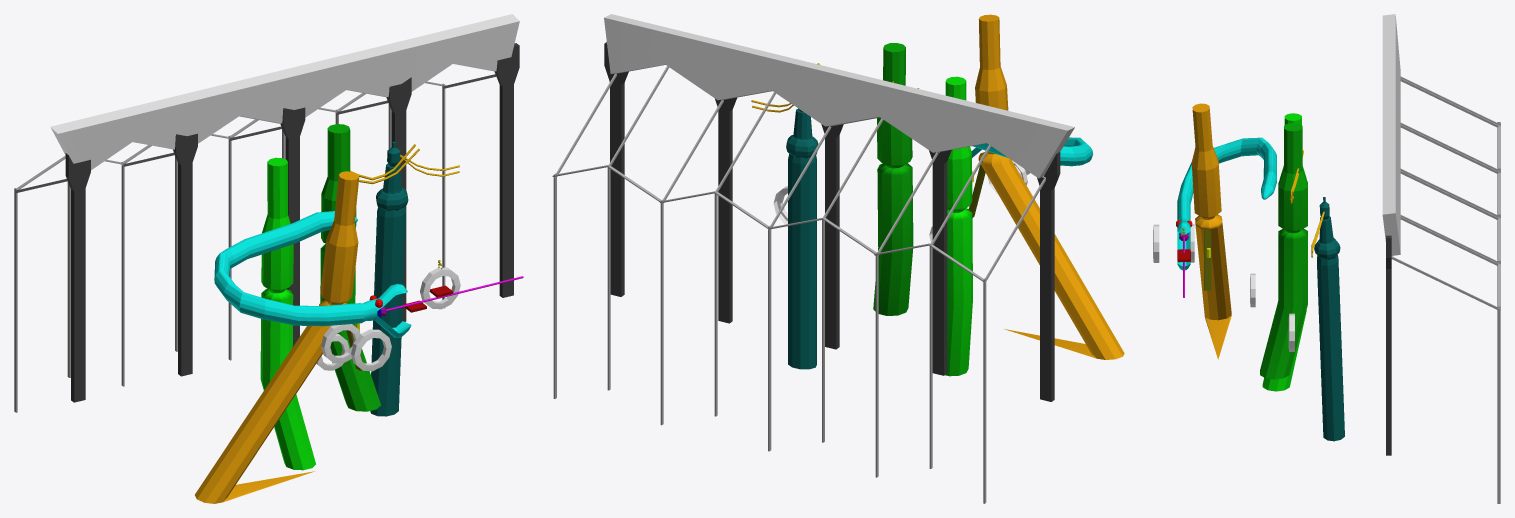
Rendered from WhiteBoxRayman2.fbx.
3 renders of one model, left to right at view 1: azimuth 30°, elevation 25°; view 2: azimuth 150°, elevation 25°; view 3: azimuth 270°, elevation 25°, orthographic. The views are drawn at different scales.
Parts seen in each view (by area): view 1: polySurface71, pCylinder10, pCube1, pCylinder15, pCube42, polySurface62, pCylinder4, polySurface70, polySurface68, polySurface69, polySurface66, polySurface67 (+3 smaller); view 2: polySurface71, polySurface62, pCylinder10, pCylinder4, pCube42, pCylinder15, polySurface70, polySurface69, polySurface68, polySurface67, polySurface66, pCube1; view 3: pCylinder4, pCylinder10, pCube42, polySurface71, pCube1, polySurface62, polySurface68, pCylinder15, pCube45.
Part boxes in pixels (left/top/right/bottom): polySurface71: left=50, top=14, right=519, bottom=170; pCylinder10: left=195, top=171, right=359, bottom=503; pCube1: left=214, top=211, right=411, bottom=337; pCylinder15: left=260, top=157, right=315, bottom=470; pCube42: left=370, top=141, right=408, bottom=416; polySurface62: left=14, top=81, right=445, bottom=412; pCylinder4: left=320, top=124, right=380, bottom=411; polySurface70: left=65, top=153, right=90, bottom=402; polySurface68: left=494, top=43, right=519, bottom=297; polySurface69: left=173, top=133, right=197, bottom=376; polySurface66: left=280, top=107, right=305, bottom=346; polySurface67: left=386, top=77, right=411, bottom=321; polySurface71: left=604, top=14, right=1074, bottom=178; polySurface62: left=552, top=165, right=986, bottom=503; pCylinder10: left=975, top=14, right=1124, bottom=359; pCylinder4: left=873, top=43, right=913, bottom=315; pCube42: left=786, top=108, right=818, bottom=369; pCylinder15: left=945, top=76, right=972, bottom=376; polySurface70: left=1037, top=152, right=1060, bottom=401; polySurface69: left=929, top=150, right=951, bottom=375; polySurface68: left=604, top=42, right=628, bottom=296; polySurface67: left=715, top=97, right=736, bottom=323; polySurface66: left=821, top=124, right=843, bottom=349; pCube1: left=971, top=137, right=1093, bottom=166; pCylinder4: left=1260, top=123, right=1307, bottom=379; pCylinder10: left=1191, top=103, right=1231, bottom=359; pCube42: left=1314, top=197, right=1344, bottom=441; polySurface71: left=1382, top=14, right=1400, bottom=255; pCube1: left=1177, top=137, right=1276, bottom=270; polySurface62: left=1497, top=122, right=1500, bottom=503; polySurface68: left=1386, top=235, right=1391, bottom=455; pCylinder15: left=1262, top=113, right=1306, bottom=391; pCube45: left=1204, top=229, right=1211, bottom=290.
Size of the model in its own units: 35.69 by 24.57 by 26.26.
